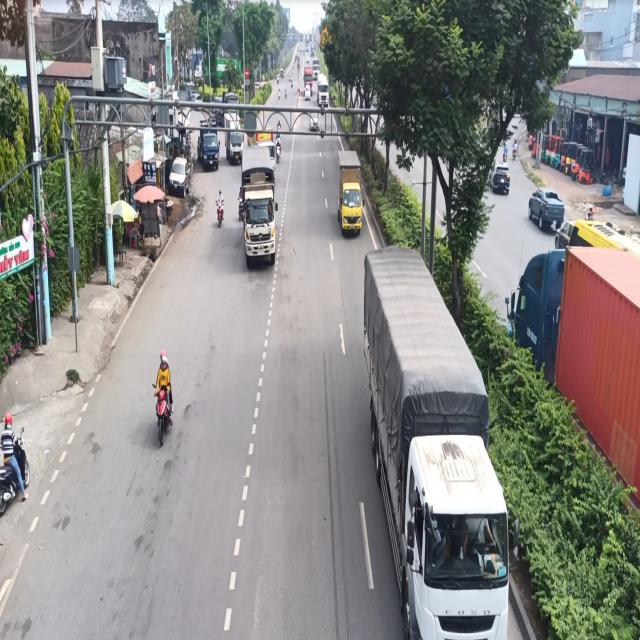motor: (0, 408, 36, 518), (152, 341, 176, 454), (214, 187, 226, 232)
truck: (356, 246, 514, 640), (238, 142, 280, 270), (333, 142, 365, 236)
